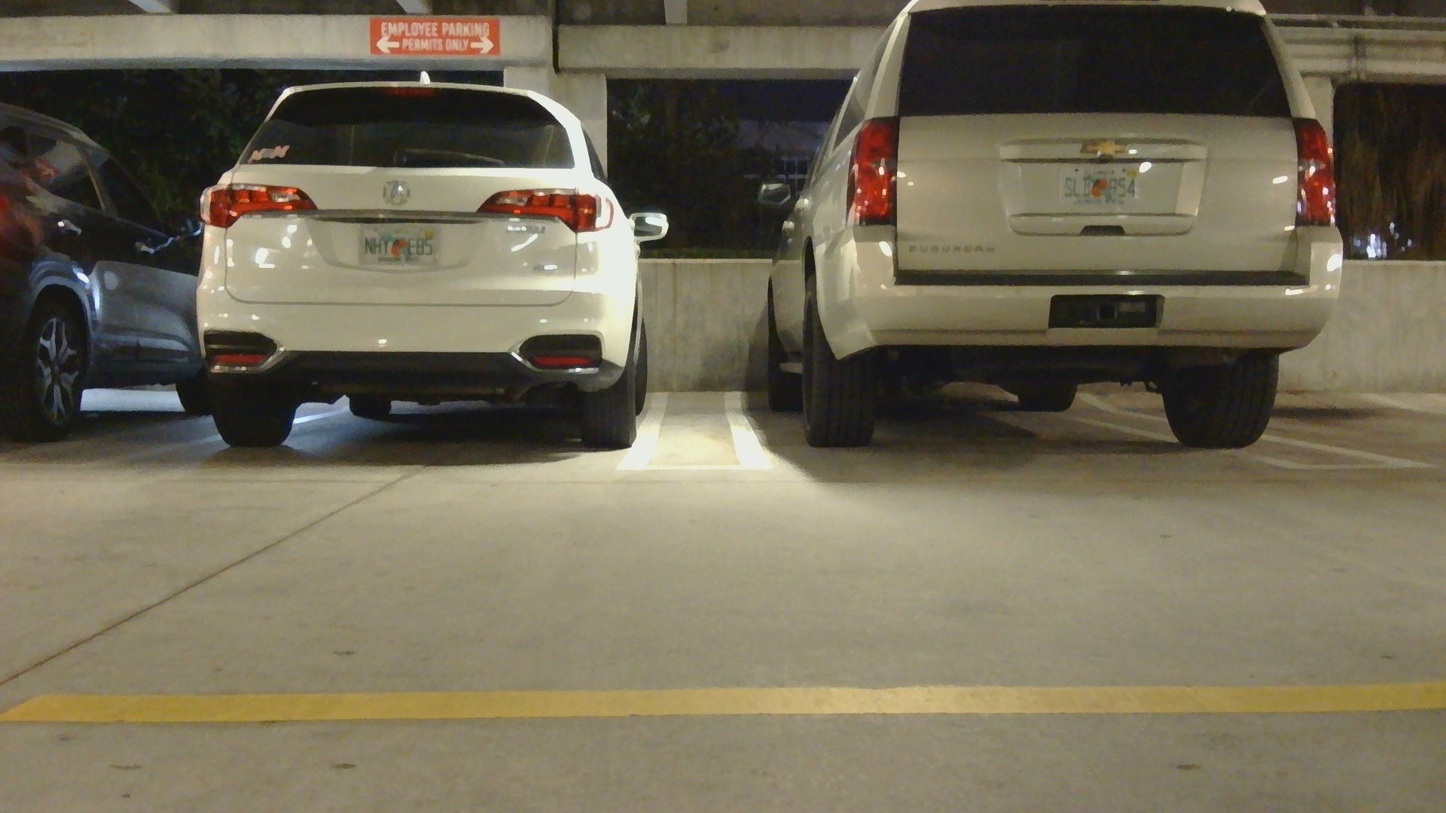empty_spot: (1264, 332, 1446, 477)
occupied_spot: (720, 0, 1354, 472), (198, 80, 668, 472), (0, 100, 216, 462)
